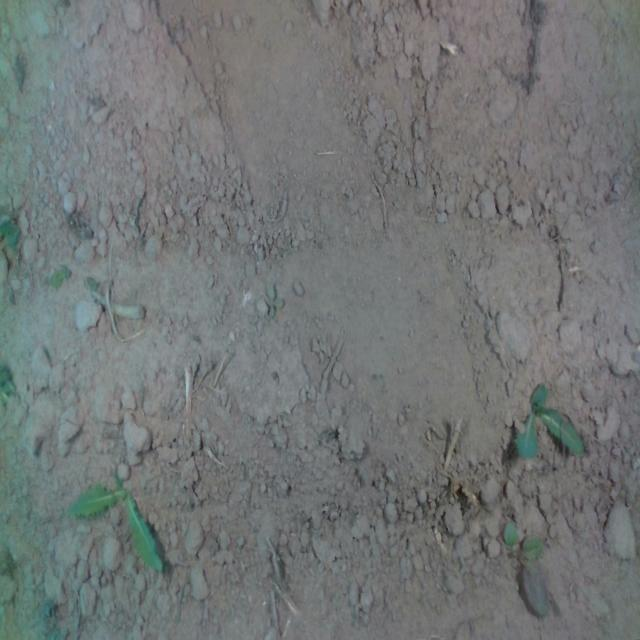weed: (68, 470, 162, 572), (513, 380, 583, 460), (502, 519, 550, 618)
